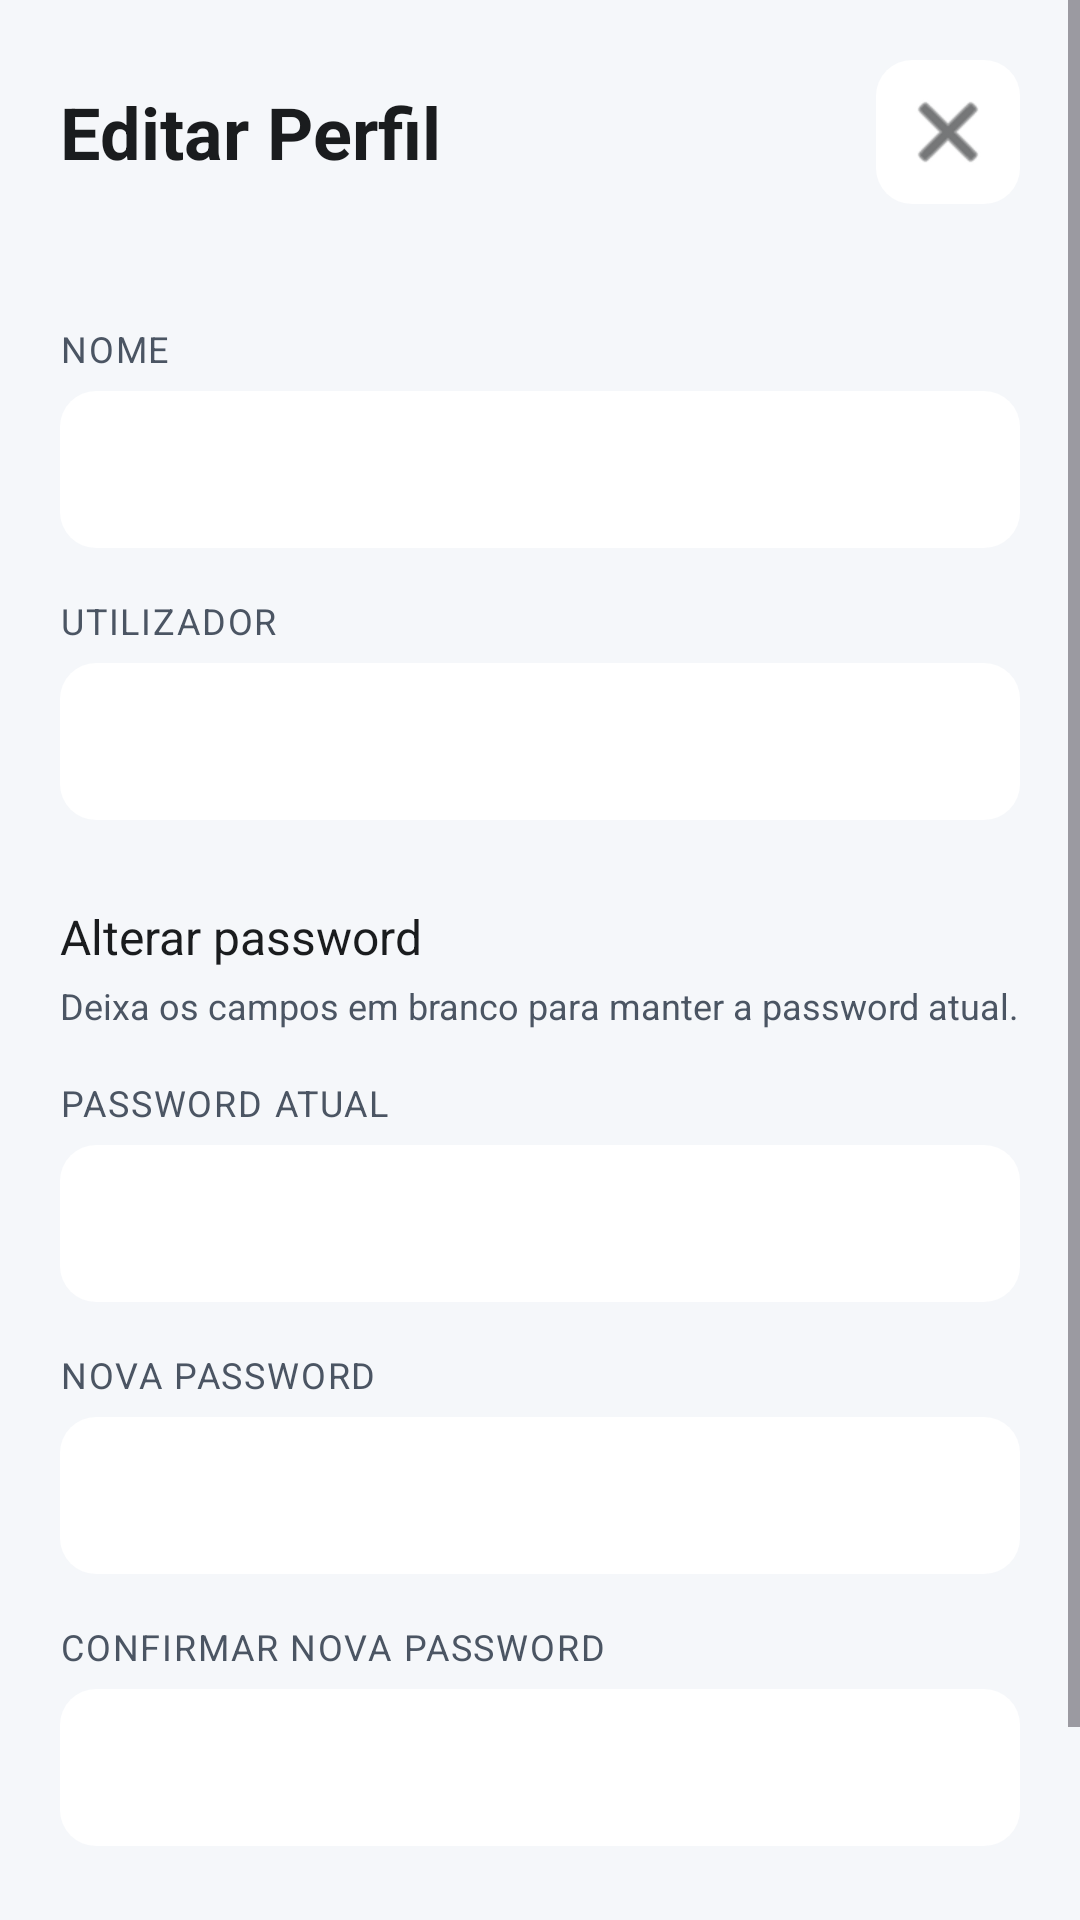

Point at icon controls on the screen. Image size 1080 × 1920, points as [x,y].
Fechar: [948,132]
